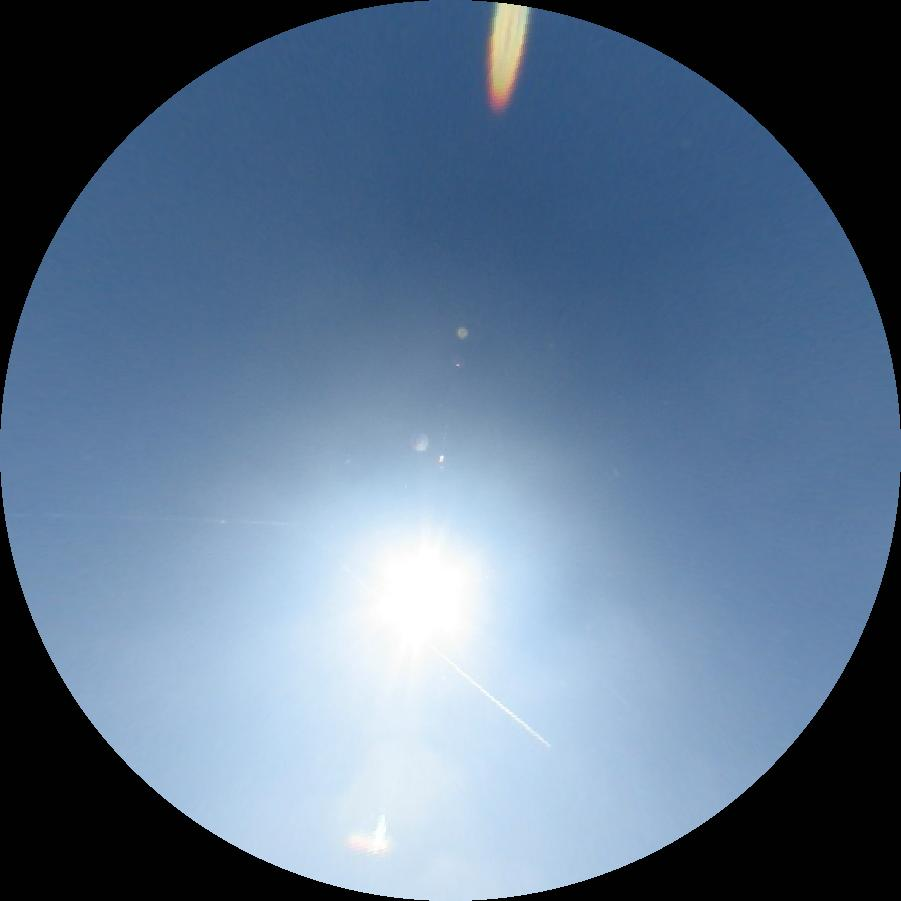contrail young: (433, 647, 551, 748)
parasite: (4, 513, 299, 526)
sun: (364, 532, 477, 654)
